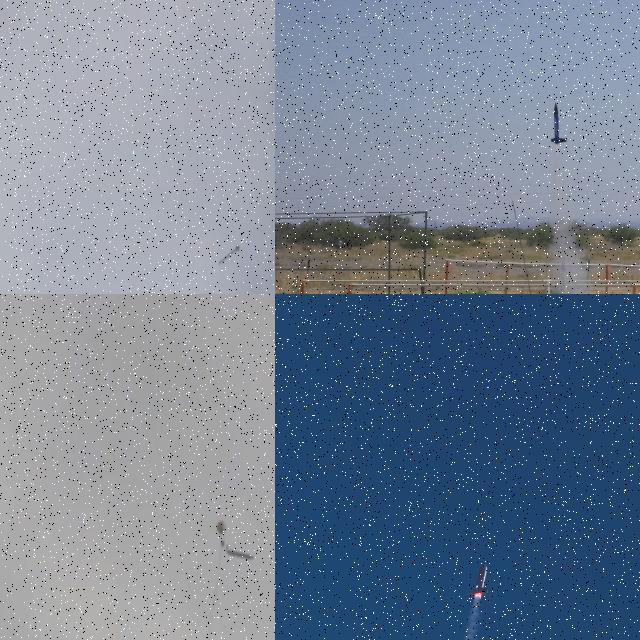Rocket: (467, 564, 490, 600), (551, 102, 567, 145), (557, 259, 573, 294), (219, 244, 240, 264)
